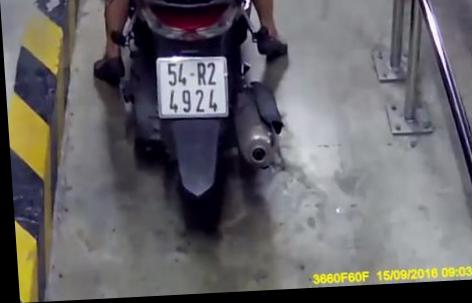License_Plate: (149, 50, 239, 126)
